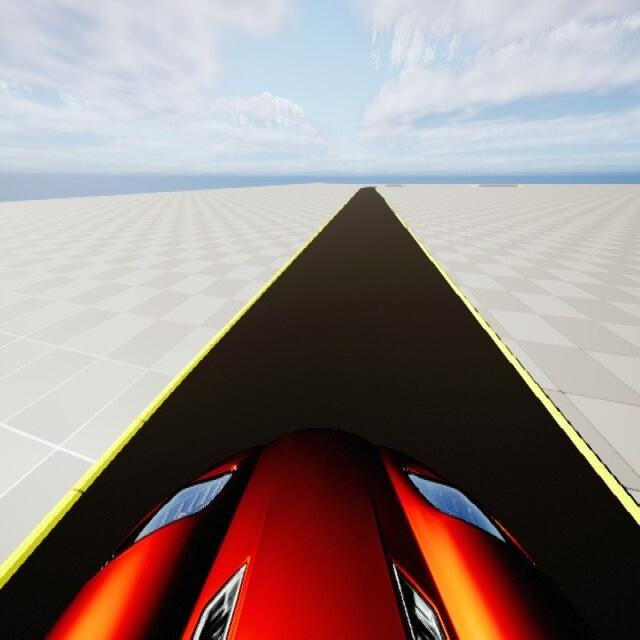lane: (0, 188, 639, 639)
